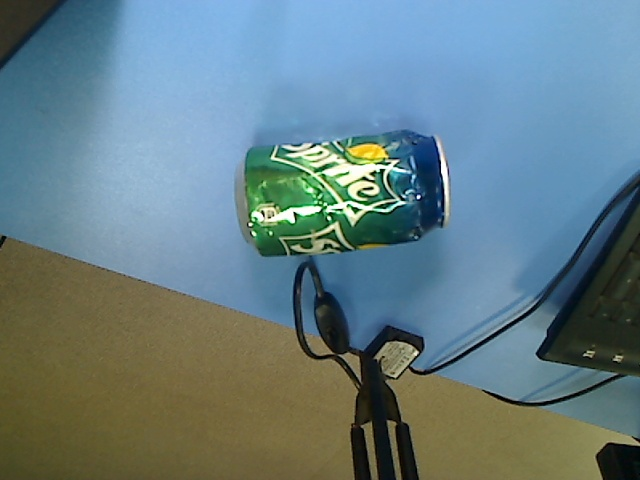can: (233, 128, 454, 259)
